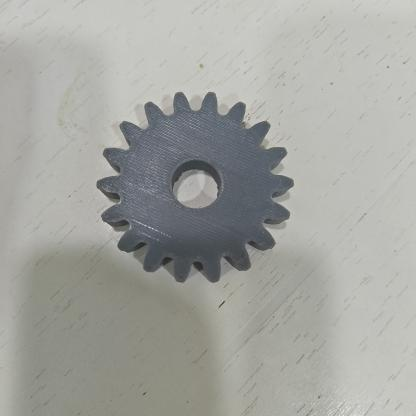gear: (85, 76, 310, 294)
